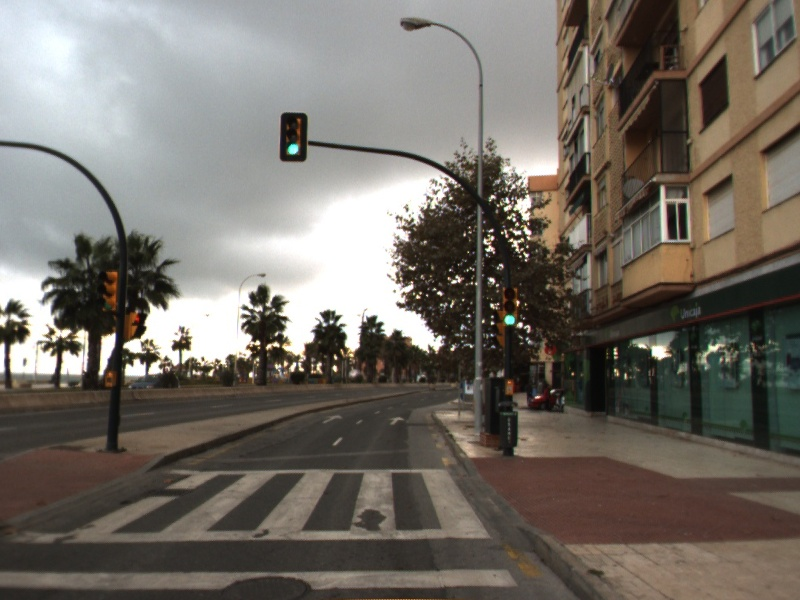STRAIGHT: (320, 413, 344, 425), (387, 415, 406, 426)
